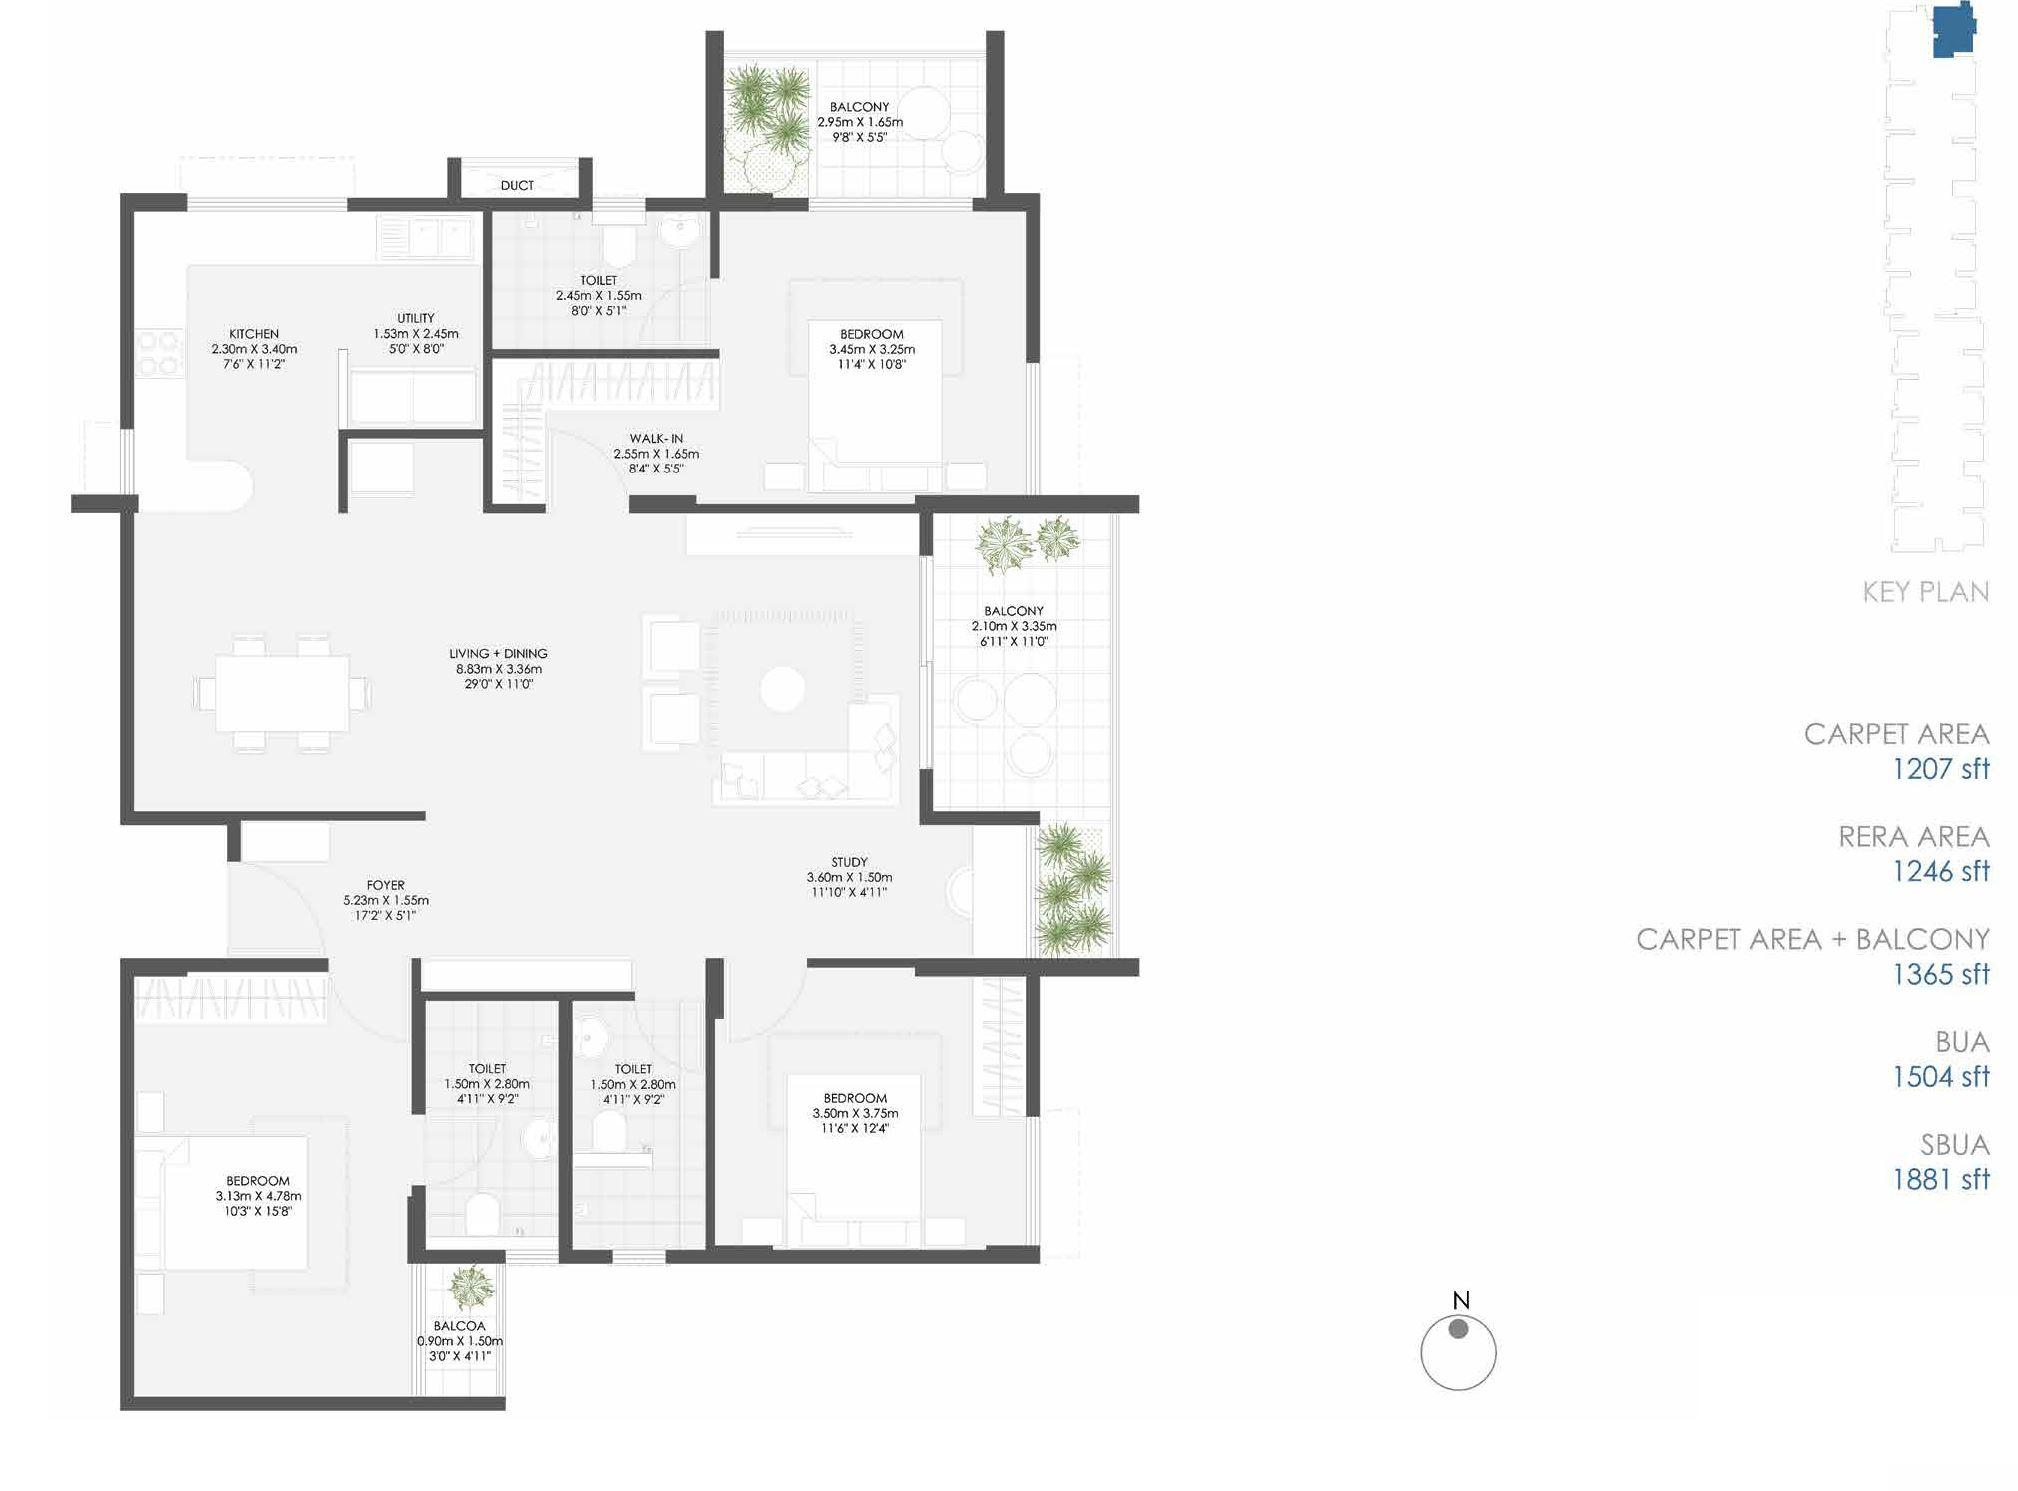Balcony: (928, 509, 1108, 810), (722, 56, 992, 200)
Bed: (808, 319, 949, 500), (783, 1078, 921, 1251), (130, 1139, 309, 1270)
Bedroom: (132, 969, 414, 1397), (718, 207, 1029, 496), (714, 969, 1029, 1247)
Dining Room: (136, 517, 464, 811)
Dining table: (182, 622, 389, 766)
Foyer: (229, 816, 711, 966)
Kitchen: (135, 207, 334, 506)
Living Room: (481, 509, 921, 811)
Sofa: (716, 750, 898, 811), (844, 695, 899, 808), (636, 620, 702, 684), (646, 686, 710, 749)
Wardrobe: (492, 356, 714, 412), (130, 973, 326, 1027), (492, 354, 548, 506), (970, 977, 1026, 1118)
balcoa: (415, 1261, 503, 1397)
door: (318, 966, 418, 1070), (238, 860, 334, 962), (630, 995, 721, 1090), (545, 417, 635, 514), (721, 960, 815, 1049), (414, 1099, 504, 1184), (631, 276, 718, 352), (913, 550, 938, 774), (797, 193, 976, 224)
duct: (461, 164, 581, 202)
fridge: (348, 440, 415, 498)
kitchen-slab: (139, 210, 483, 266), (138, 211, 186, 511), (135, 456, 251, 504)
sink: (370, 210, 479, 265), (573, 1012, 613, 1056), (523, 1112, 556, 1161), (652, 216, 699, 246)
stove: (135, 324, 186, 382)
study: (702, 822, 1022, 955)
toilet: (570, 996, 716, 1261), (425, 996, 566, 1261), (487, 208, 714, 349)
tv: (730, 522, 860, 551)
utility: (338, 207, 481, 428)
walkin: (494, 356, 716, 500)
washing-machine: (351, 368, 478, 424)
